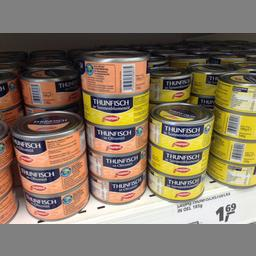fish: (12, 108, 86, 166), (78, 48, 151, 96), (148, 102, 212, 148), (80, 86, 150, 126), (20, 186, 92, 220), (18, 64, 78, 104), (146, 144, 215, 178), (82, 122, 148, 156), (145, 169, 210, 202), (15, 162, 88, 191), (86, 148, 148, 178), (212, 71, 252, 113), (86, 173, 148, 200)
